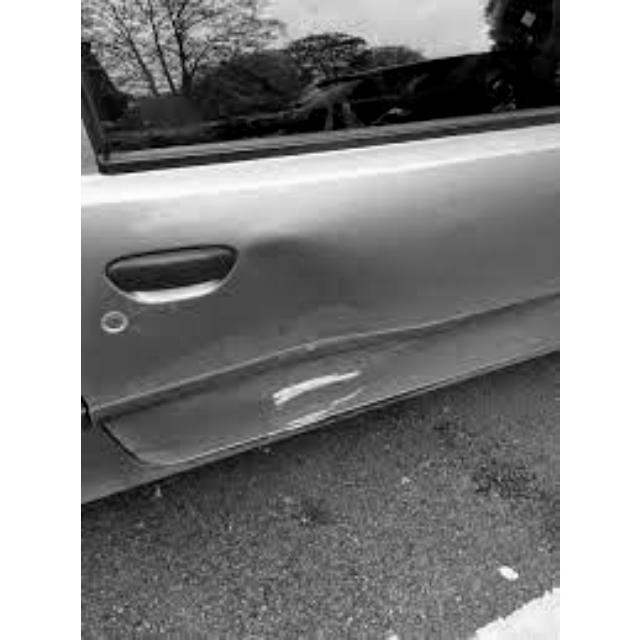doorouter-dent: (83, 149, 557, 440)
